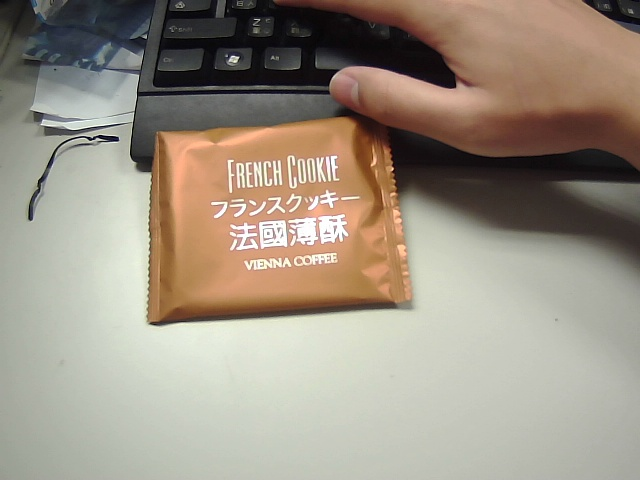frenchcookie: (141, 115, 423, 330)
